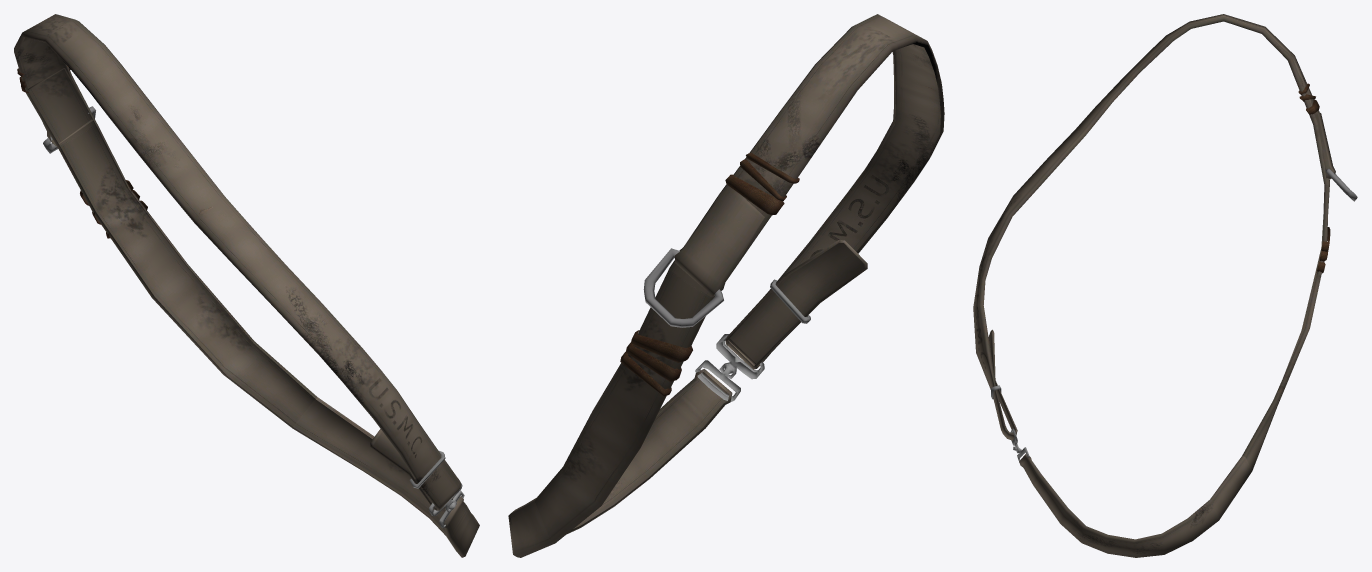
The model's file is Lara_belt.obj.
3 views of the same model, side by side, from view 1: azimuth 30°, elevation 25°; view 2: azimuth 150°, elevation 25°; view 3: azimuth 270°, elevation 25° (orthographic). The views are drawn at different scales.
Size of the model in its own units: 0.4932 by 0.7195 by 0.5924.
Materials: 1 (1 with a texture image).
